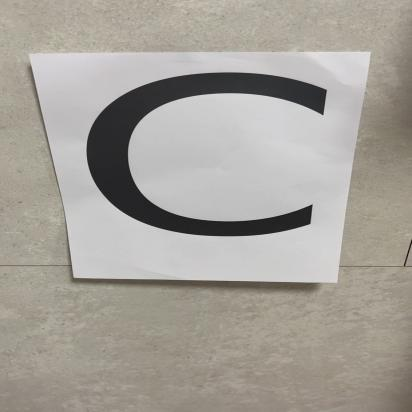seat: (40, 56, 342, 286)
